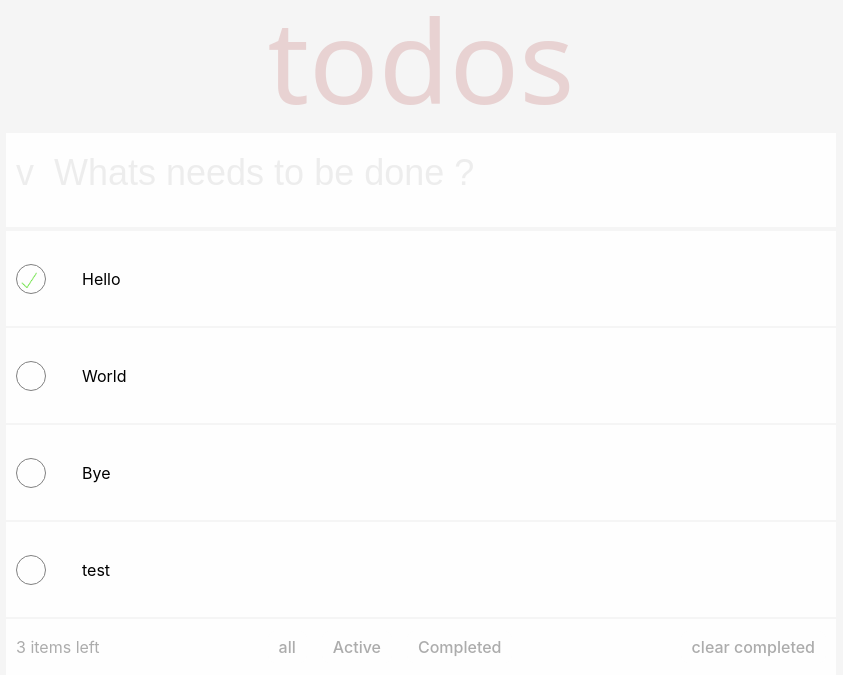
Scenario: something truthy and falsy › clear completed
Click the button with test id "todo_clear_button" at (753, 647), box [681,631,826,663]
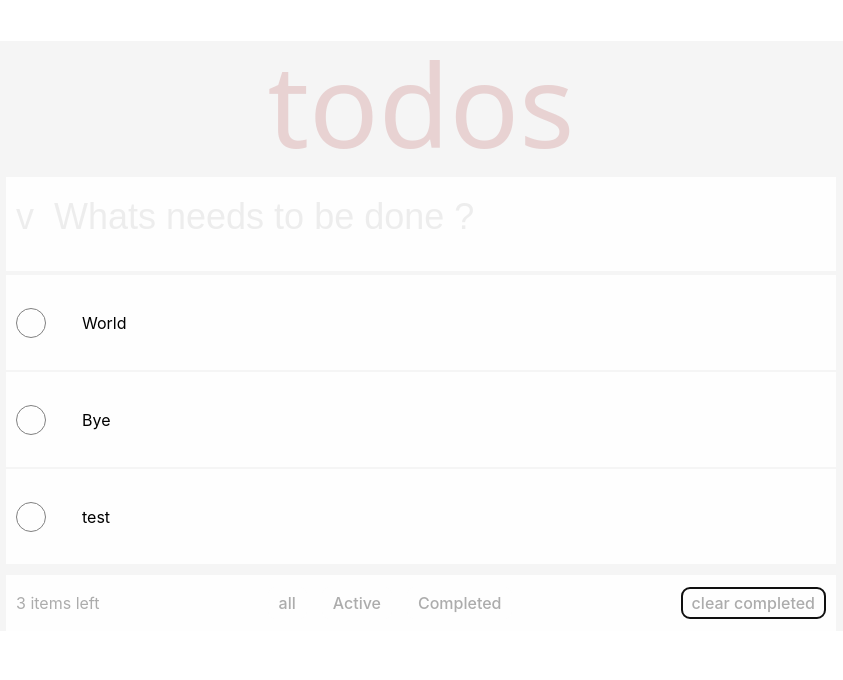
Expected: no pictures with test id "completed" are shown
